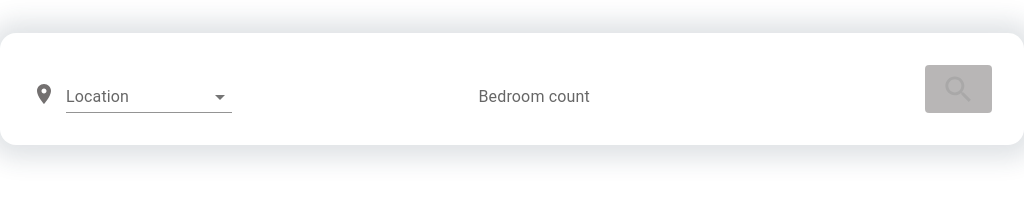
MainSearch component › has change count bedrooms when click button minus
Step 1. Click the text "Bedroom count" → (544, 96), box [478,85,608,108]
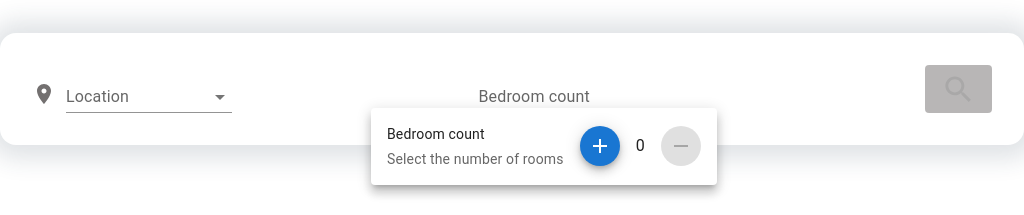
Step 2. Click the button named "add" → (600, 146), box [580,126,620,166]
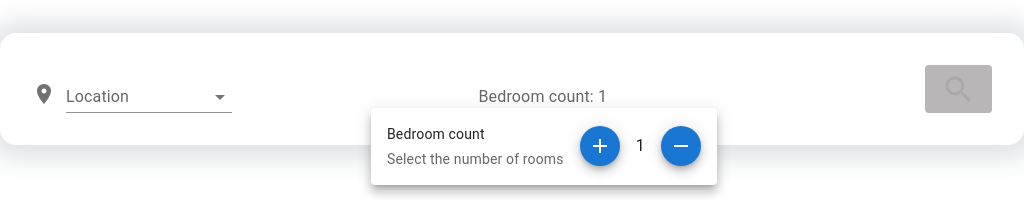
Step 3. Click the button named "add" → (600, 146), box [580,126,620,166]
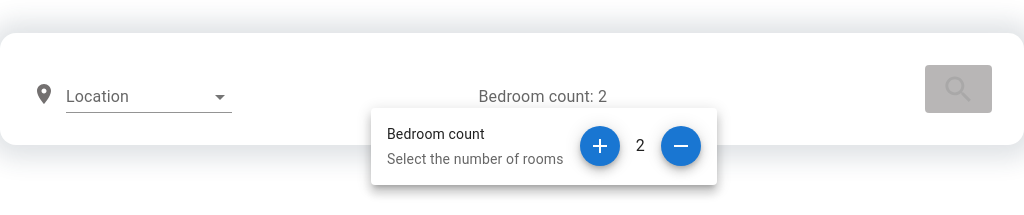
Step 4. Click the button named "remove" → (681, 146), box [661,126,701,166]
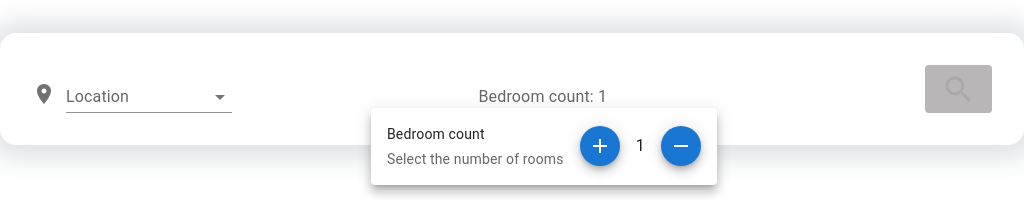
Expected: the text "Bedroom count: 1" is shown, [478,85,608,108]
